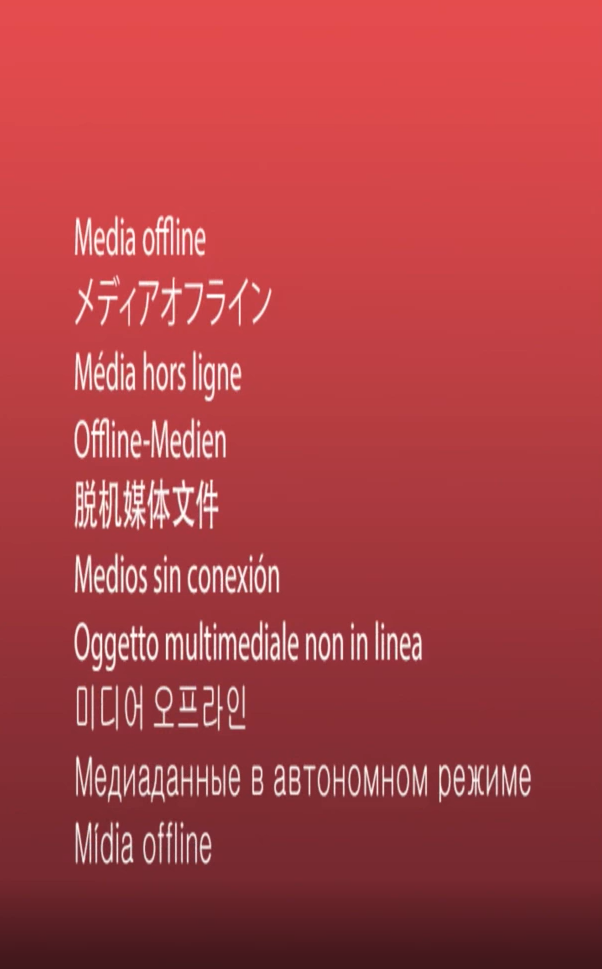rendering error: (5, 9, 598, 963)
